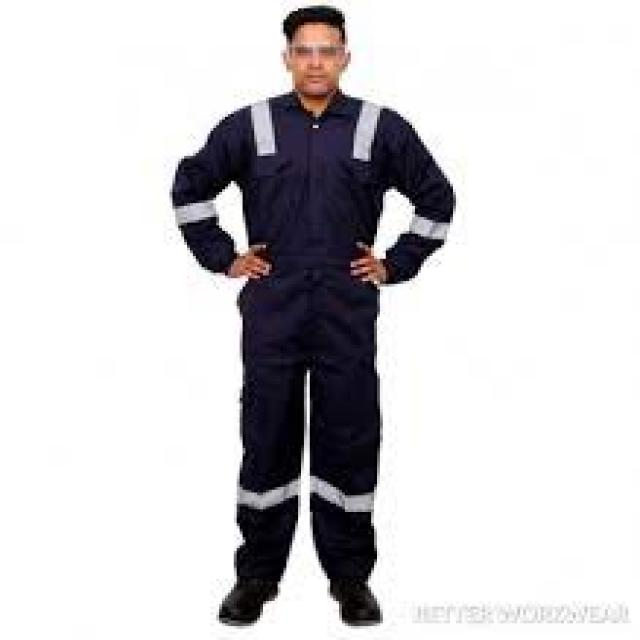vest: (170, 88, 458, 587)
